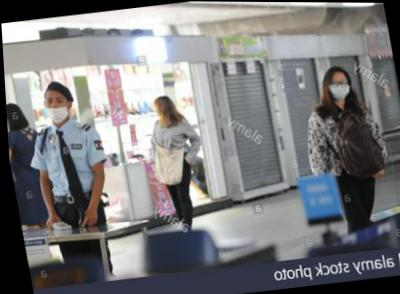OK: (327, 77, 353, 101)
WRONG: (44, 94, 69, 123)
